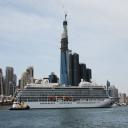cruises: (13, 79, 122, 111)
